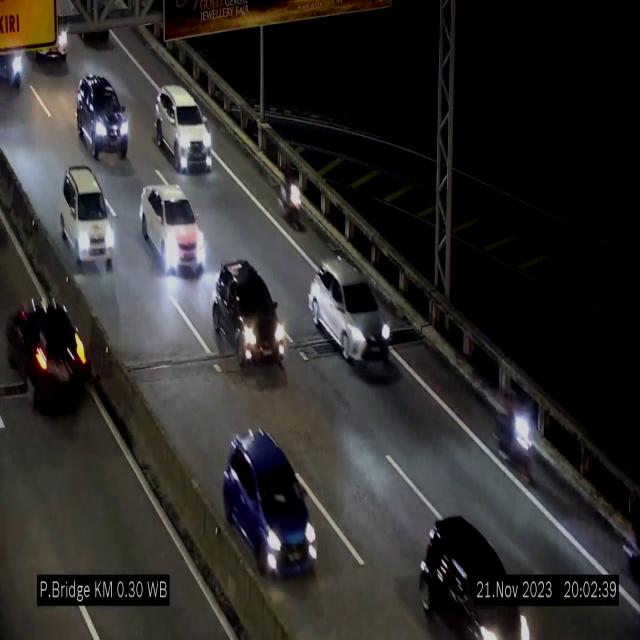Car: (223, 431, 317, 579), (212, 255, 287, 375), (308, 258, 392, 362), (140, 184, 203, 276), (61, 166, 115, 268), (154, 85, 212, 171), (78, 70, 129, 158)
Motorcycle: (499, 385, 539, 478), (280, 158, 302, 233)
